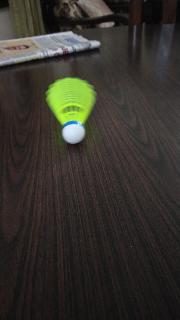shuttlecock: (46, 76, 96, 144)
